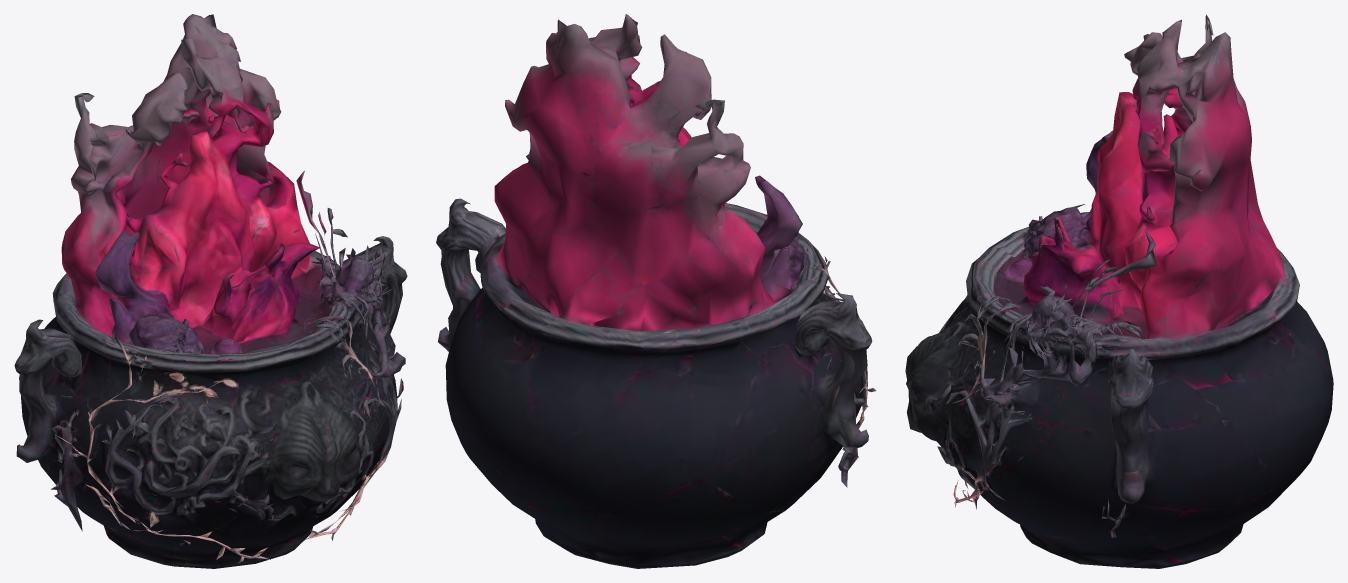
The model's file is cauldron.glb.
3 views of the same model, side by side, from view 1: azimuth 30°, elevation 25°; view 2: azimuth 150°, elevation 25°; view 3: azimuth 270°, elevation 25° (orthographic). The views are drawn at different scales.
Bounding box in the file's own units: 1.63 × 1.9 × 1.46.
1 material, 1 textured.
